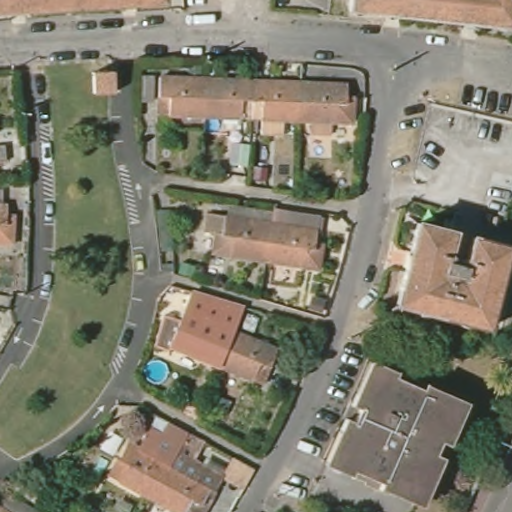pool: (143, 359, 172, 387), (206, 114, 225, 135), (309, 141, 327, 155)
